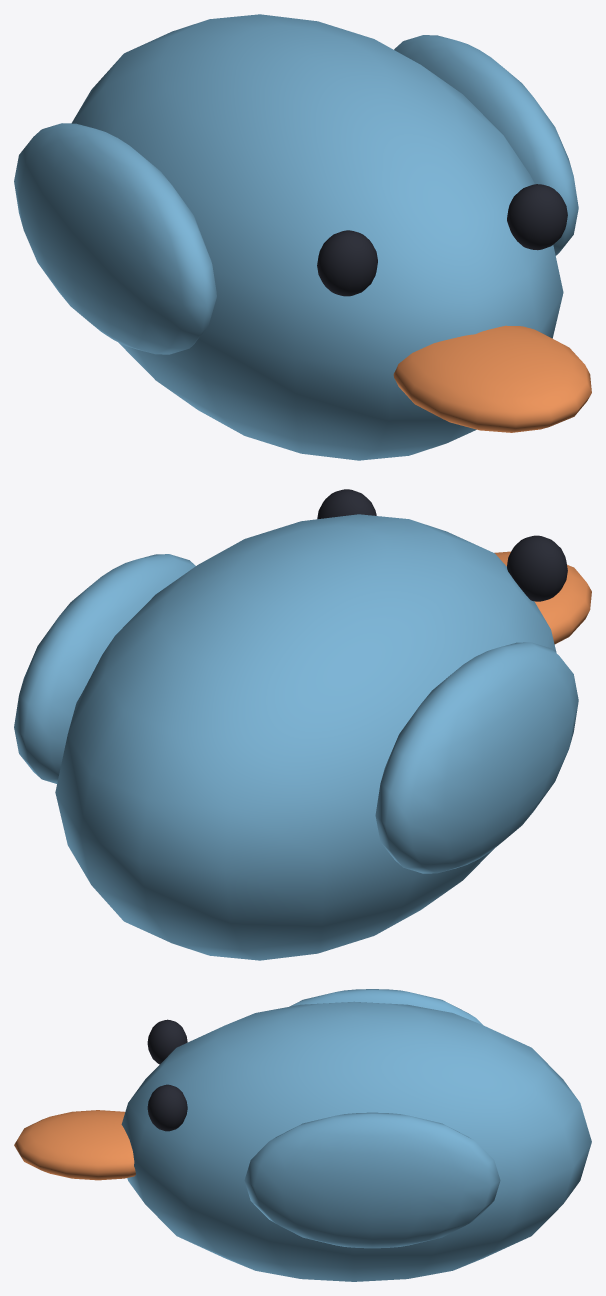
The model's file is word-bird.glb.
The picture shows the model from 3 angles, top to bottom: view 1: azimuth 30°, elevation 25°; view 2: azimuth 150°, elevation 25°; view 3: azimuth 270°, elevation 25°; orthographic projection. The views are drawn at different scales.
Parts seen in each view (by area): view 1: round animal body, wing, beak, wing.001, round eye, round eye.001; view 2: round animal body, wing, wing.001, round eye, beak, round eye.001; view 3: round animal body, wing.001, beak, wing, round eye.001, round eye.
Part boxes in pixels (x1=…): round animal body: x1=71, y1=14, x2=563, y2=460; wing: x1=14, y1=123, x2=216, y2=354; beak: x1=393, y1=325, x2=591, y2=432; wing.001: x1=394, y1=35, x2=578, y2=255; round eye: x1=317, y1=230, x2=377, y2=296; round eye.001: x1=507, y1=184, x2=567, y2=250; round animal body: x1=55, y1=514, x2=556, y2=960; wing: x1=375, y1=642, x2=578, y2=873; wing.001: x1=14, y1=554, x2=195, y2=783; round eye: x1=507, y1=535, x2=567, y2=601; beak: x1=494, y1=551, x2=591, y2=644; round eye.001: x1=317, y1=489, x2=376, y2=519; round animal body: x1=121, y1=1001, x2=591, y2=1281; wing.001: x1=244, y1=1112, x2=500, y2=1248; beak: x1=14, y1=1110, x2=135, y2=1180; wing: x1=290, y1=989, x2=482, y2=1024; round eye.001: x1=147, y1=1084, x2=187, y2=1131; round eye: x1=147, y1=1019, x2=187, y2=1064.
Size of the model in its own units: 1 by 0.76 by 1.58.
